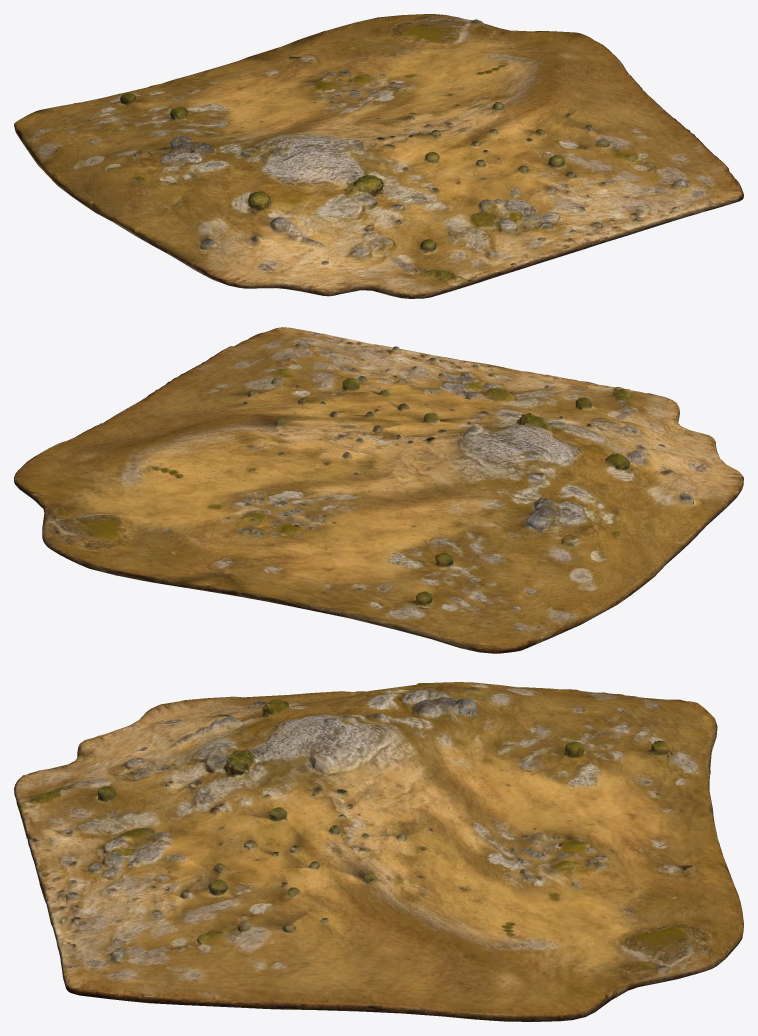
The model's file is city_mardin_plain.glb.
The picture shows the model from 3 angles, top to bottom: view 1: azimuth 30°, elevation 25°; view 2: azimuth 150°, elevation 25°; view 3: azimuth 270°, elevation 25°; orthographic projection. The views are drawn at different scales.
Visible parts, largest first — view 1: Mesh1.0; view 2: Mesh1.0; view 3: Mesh1.0.
Part boxes in pixels (x1,y1,x2,y2): Mesh1.0: [14, 14, 743, 298]; Mesh1.0: [14, 327, 743, 653]; Mesh1.0: [14, 682, 743, 1021].
Size of the model in its own units: 149 by 14 by 139.
Materials: 1 (1 with a texture image).
